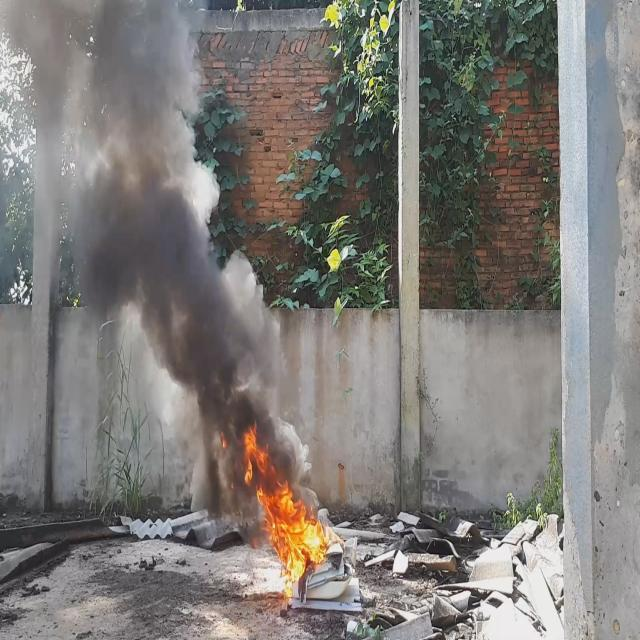Fire: (244, 427, 328, 582)
Smoke: (0, 0, 311, 521)
